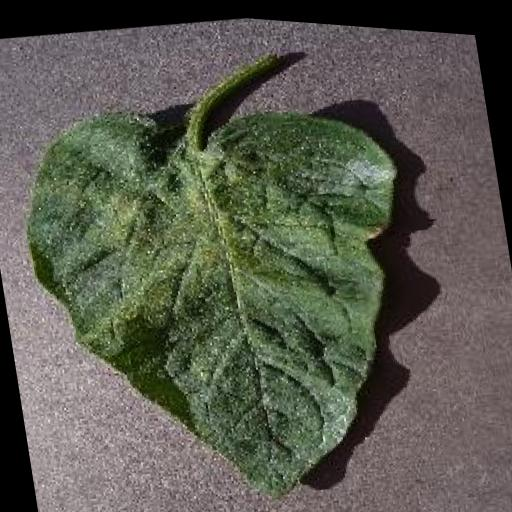Spider Mites: (10, 58, 449, 512)
